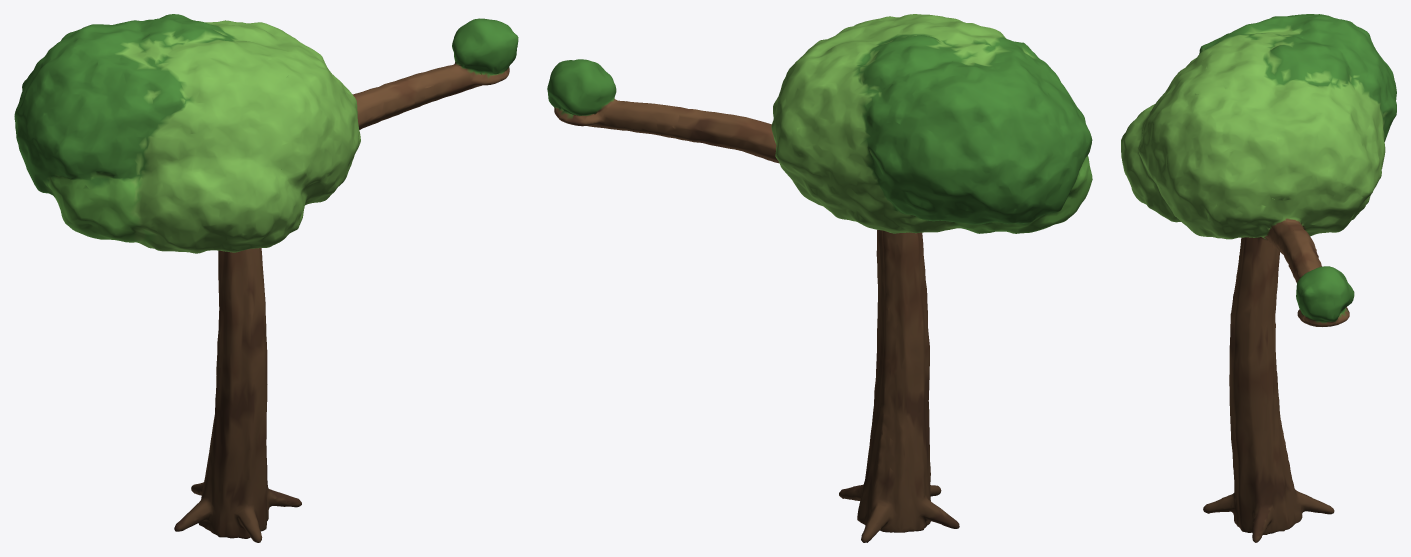
Rendered from broadleaf_broken_regrowth.glb.
3 views of the same model, side by side, from view 1: azimuth 30°, elevation 25°; view 2: azimuth 150°, elevation 25°; view 3: azimuth 270°, elevation 25° (orthographic). The views are drawn at different scales.
Visible parts, largest first — view 1: broadleaf_broken_regrowth_LOD0; view 2: broadleaf_broken_regrowth_LOD0; view 3: broadleaf_broken_regrowth_LOD0.
Boxes of the visible parts, x1,y1,x2,y2 form: broadleaf_broken_regrowth_LOD0: (14, 14, 518, 542); broadleaf_broken_regrowth_LOD0: (547, 14, 1092, 542); broadleaf_broken_regrowth_LOD0: (1121, 14, 1396, 542).
Size of what is drawn, in the model's own units: 4.57 by 4.36 by 2.37.
